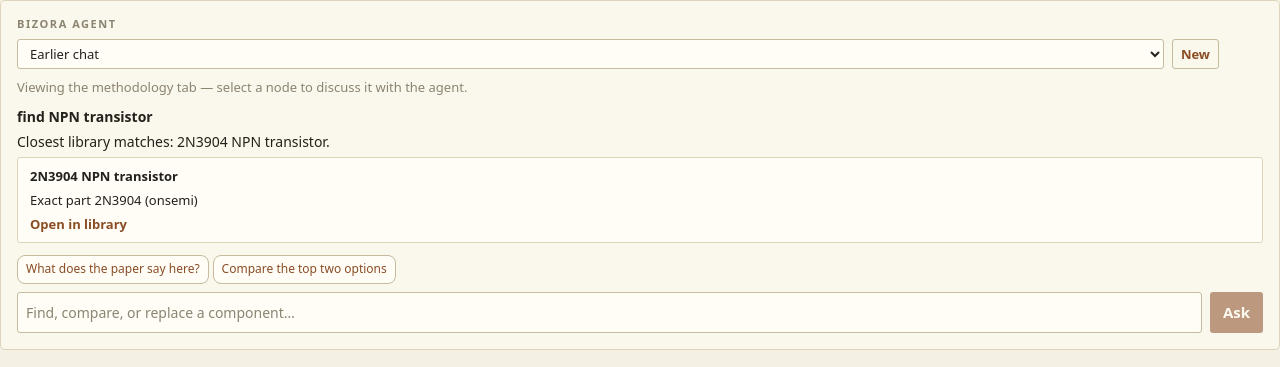
Test: CopilotPanel threads › switches conversations and starts new ones
The image size is (1280, 367).
Expected: the text "find NPN transistor" is shown, [17,107,153,126]
Select "Second chat" in the dropdown named "Conversation" at (590, 54), box [17,39,1164,69]
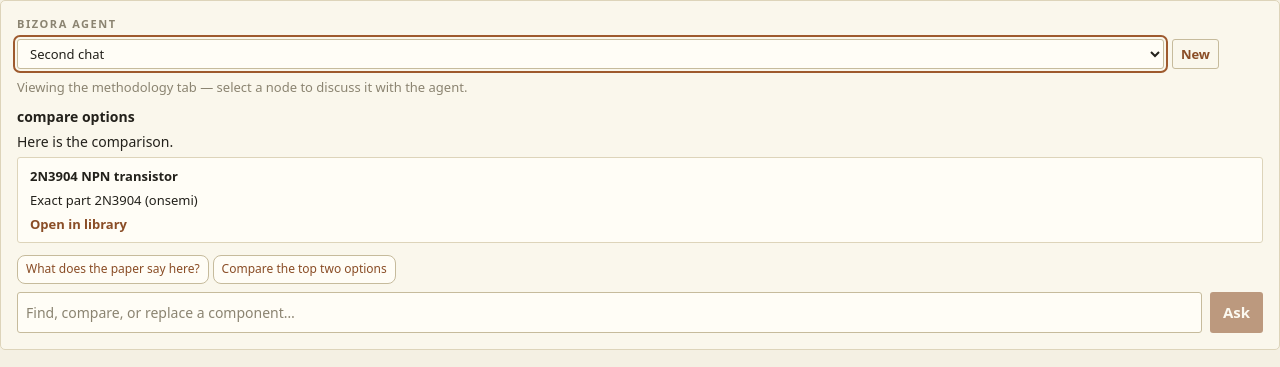
Expected: the text "compare options" is shown, [17,107,135,126]
Expected: the text "find NPN transistor" is gone
Click the button "New".
click(1195, 54)  # box [1172,39,1219,69]
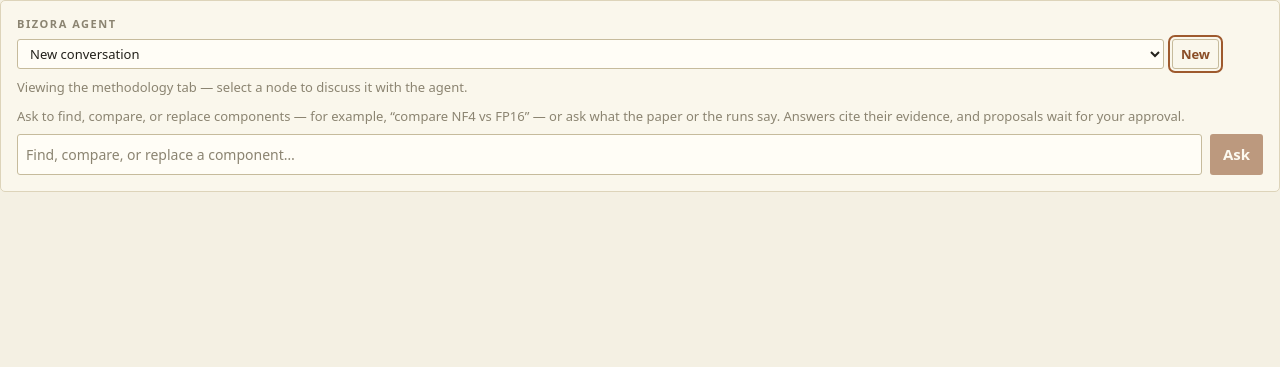
Expected: the text "compare options" is gone
